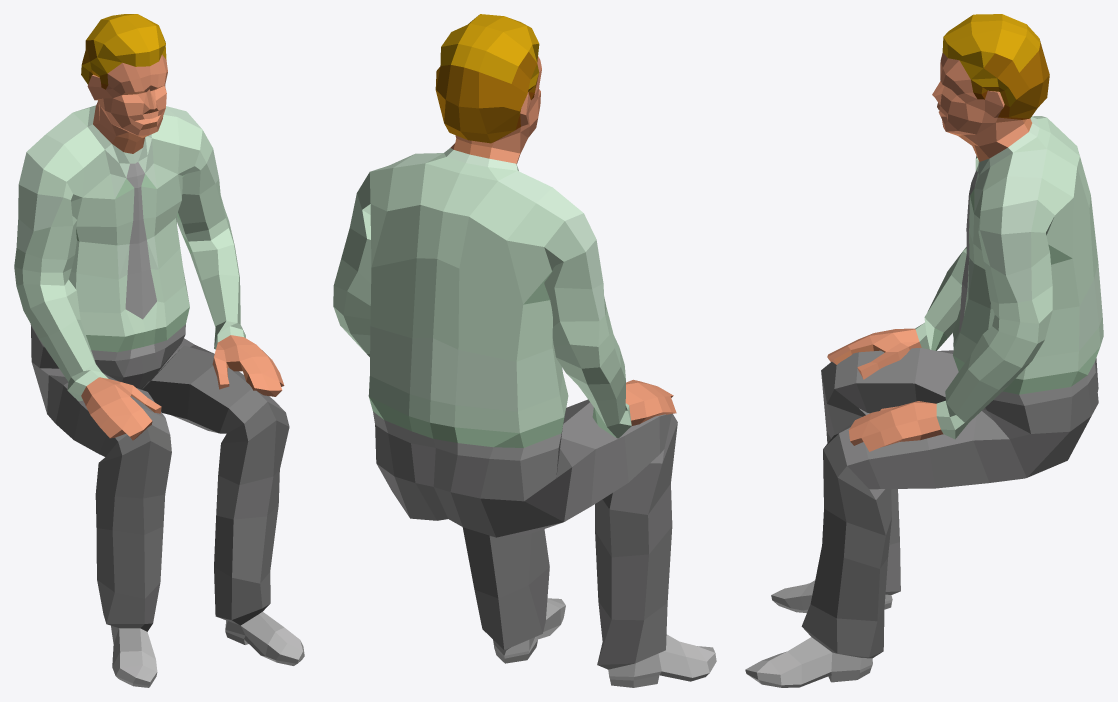
The picture shows the model from 3 angles, left to right: view 1: azimuth 30°, elevation 25°; view 2: azimuth 150°, elevation 25°; view 3: azimuth 270°, elevation 25°; orthographic projection. The views are drawn at different scales.
Visible parts, largest first — view 1: lpmale_formal_C_sitting_peopleColors_0; view 2: lpmale_formal_C_sitting_peopleColors_0; view 3: lpmale_formal_C_sitting_peopleColors_0.
Boxes of the visible parts, left/top/right/bottom form: lpmale_formal_C_sitting_peopleColors_0: left=14, top=14, right=304, bottom=687; lpmale_formal_C_sitting_peopleColors_0: left=333, top=14, right=716, bottom=687; lpmale_formal_C_sitting_peopleColors_0: left=745, top=14, right=1103, bottom=687.
Bounding box in the file's own units: 52.65 × 136 × 70.05.
